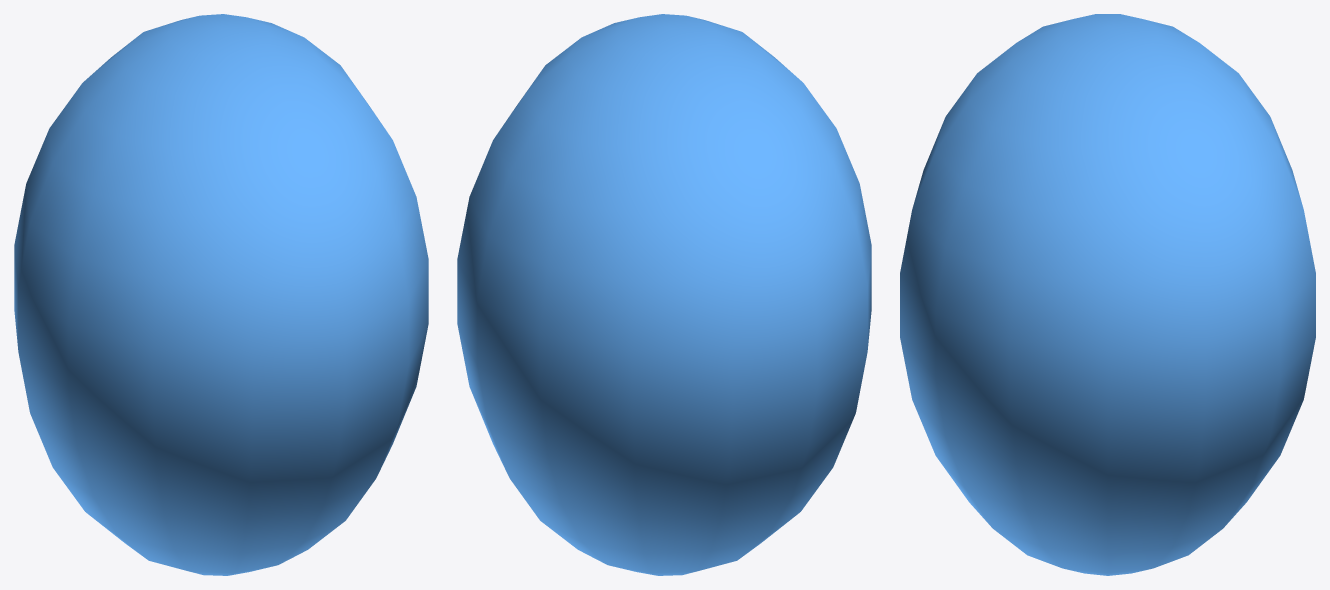
File: nimboreo_stage3.obj
The picture shows the model from 3 angles, left to right: view 1: azimuth 30°, elevation 25°; view 2: azimuth 150°, elevation 25°; view 3: azimuth 270°, elevation 25°; orthographic projection.
Size of the model in its own units: 2.74 by 3.92 by 2.76.
